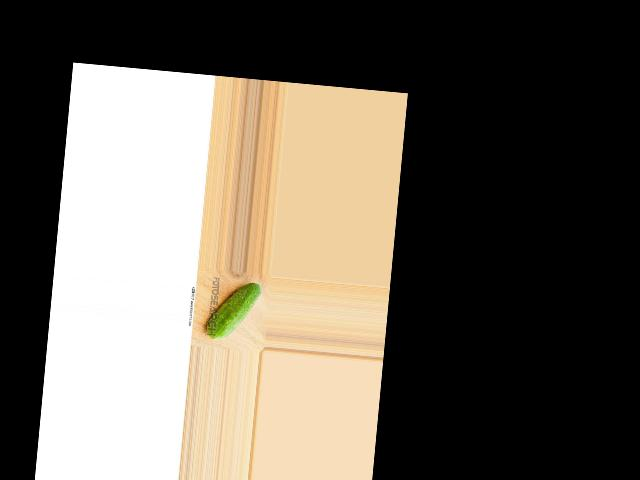cucumber: (205, 278, 262, 344)
